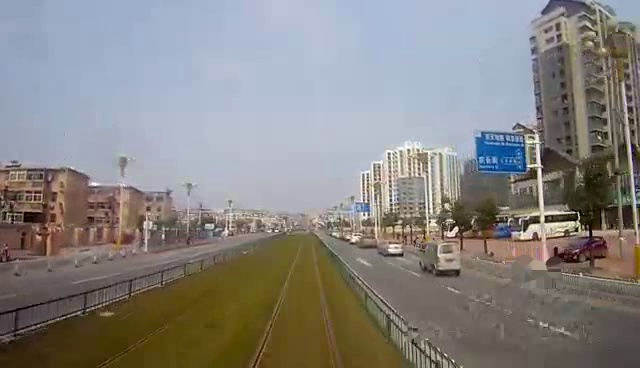bus: (511, 211, 585, 240)
car: (418, 239, 466, 278), (560, 236, 620, 267), (378, 237, 409, 263)
